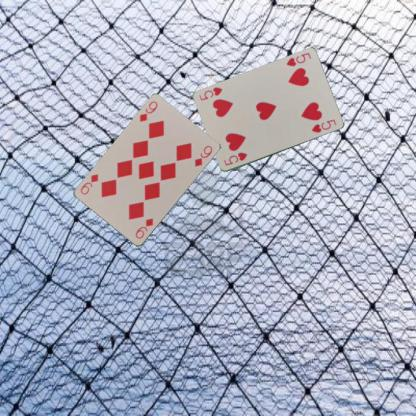5h: (284, 50, 312, 68), (221, 150, 248, 167)
9d: (137, 98, 159, 124), (133, 216, 154, 240)
